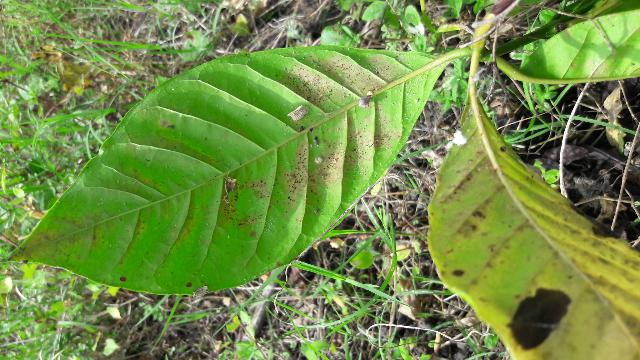red_spider_mite: (4, 48, 441, 293)
